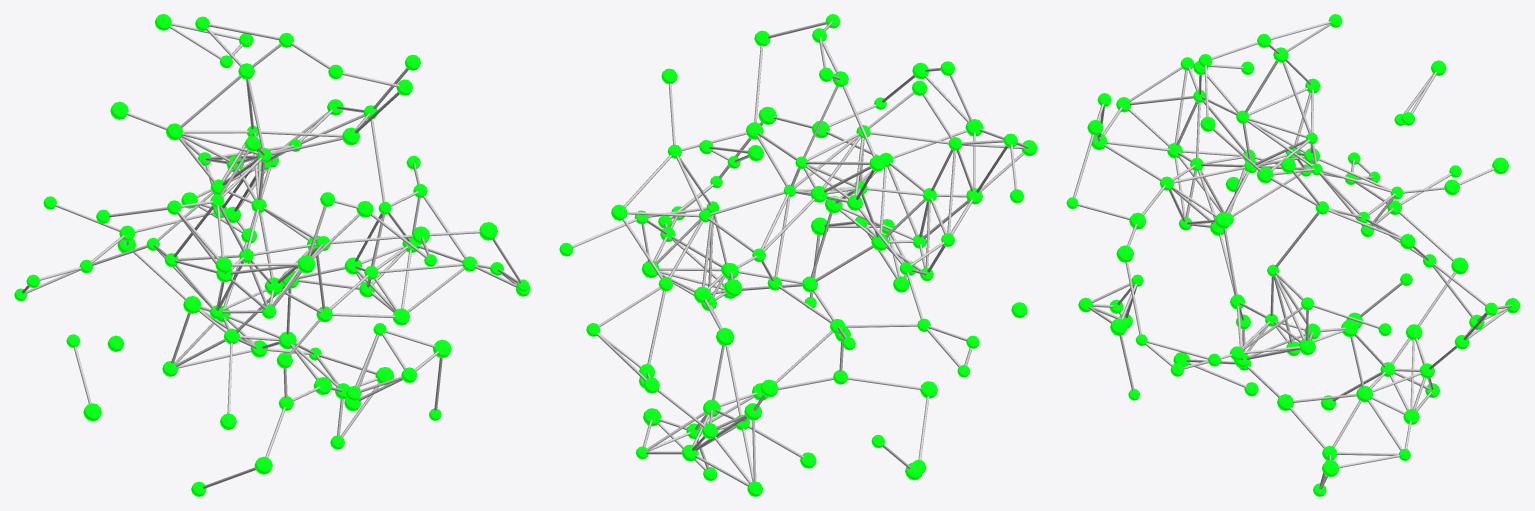
File: network_model.glb
3 renders of one model, left to right at view 1: azimuth 30°, elevation 25°; view 2: azimuth 150°, elevation 25°; view 3: azimuth 270°, elevation 25°, orthographic. The views are drawn at different scales.
Size of the model in its own units: 47.4 by 50.5 by 48.87.
